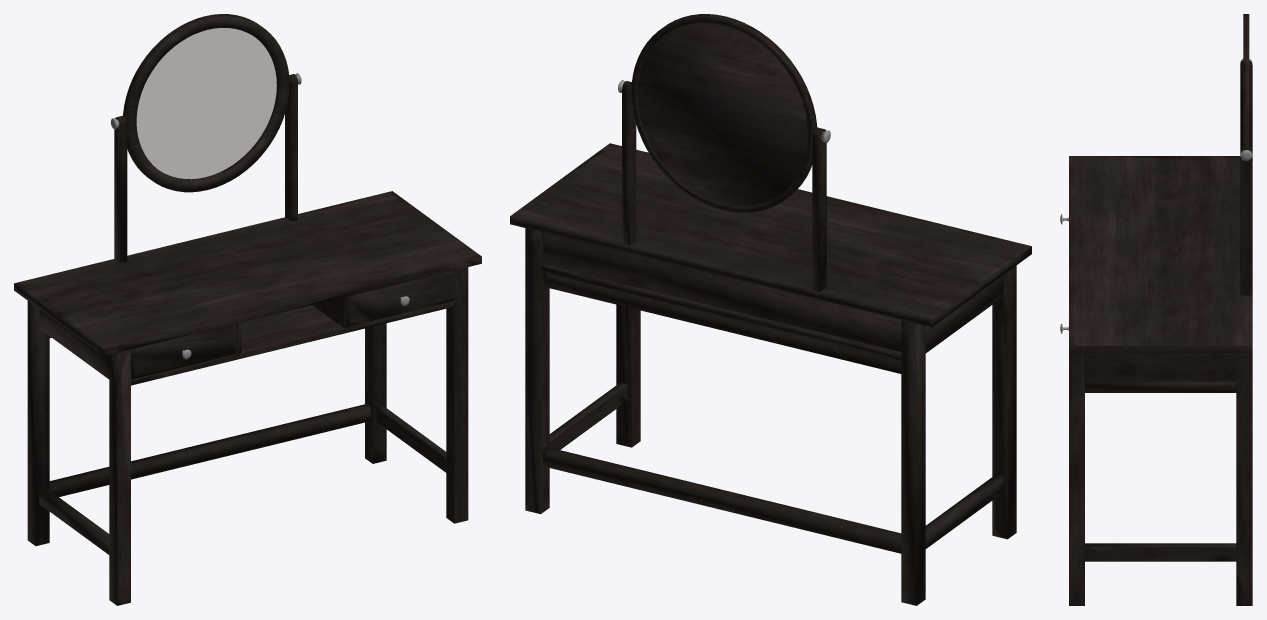
The picture shows the model from 3 angles, left to right: view 1: azimuth 30°, elevation 25°; view 2: azimuth 150°, elevation 25°; view 3: azimuth 270°, elevation 25°; orthographic projection. The views are drawn at different scales.
Visible parts, largest first — view 1: Drawer2_M_Table_0; view 2: Drawer2_M_Table_0; view 3: Drawer2_M_Table_0.
Boxes of the visible parts, bbox=[...] form: Drawer2_M_Table_0: bbox=[14, 14, 481, 605]; Drawer2_M_Table_0: bbox=[510, 14, 1031, 605]; Drawer2_M_Table_0: bbox=[1060, 14, 1252, 605].
Bounding box in the file's own units: 1.1 × 1.34 × 0.4705.
Materials: 1 (1 with a texture image).
